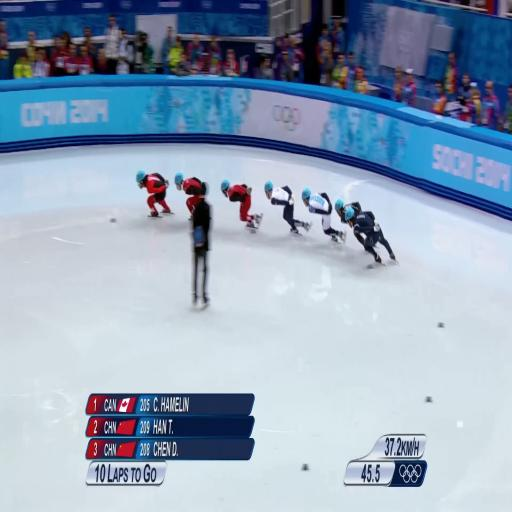Skater: (345, 207, 396, 264), (265, 182, 311, 233), (302, 189, 345, 241), (221, 180, 262, 228), (136, 171, 171, 217), (175, 173, 201, 219), (335, 199, 361, 223)
